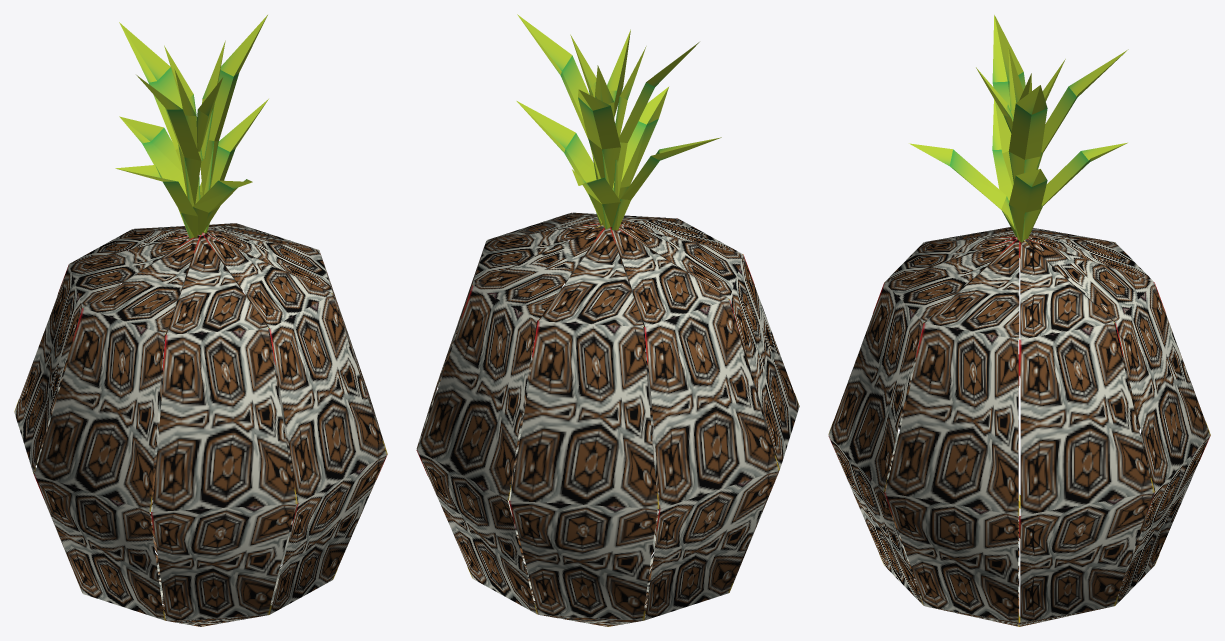
The model's file is Pine.FBX.
3 renders of one model, left to right at view 1: azimuth 30°, elevation 25°; view 2: azimuth 150°, elevation 25°; view 3: azimuth 270°, elevation 25°, orthographic. The views are drawn at different scales.
Visible parts, largest first — view 1: Pine apple; view 2: Pine apple; view 3: Pine apple.
Part boxes in pixels (x1=…): Pine apple: x1=14, y1=15, x2=387, y2=626; Pine apple: x1=416, y1=14, x2=799, y2=626; Pine apple: x1=828, y1=15, x2=1210, y2=626.
Bounding box in the file's own units: 13.41 × 22.42 × 13.41.
